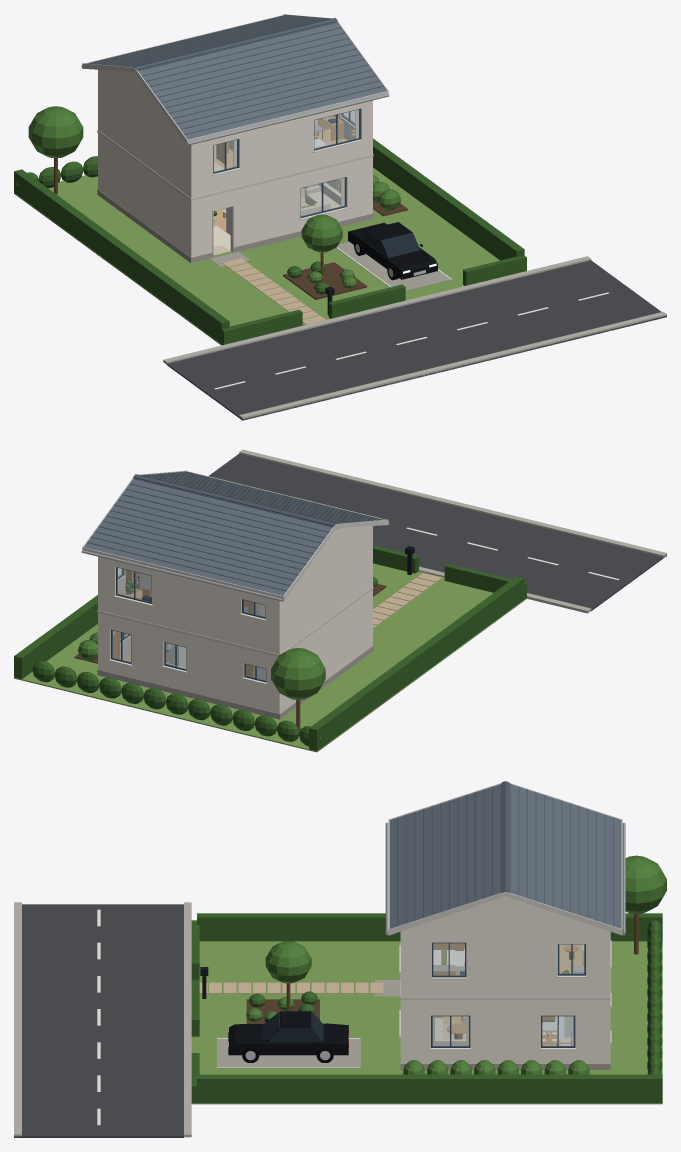
The model's file is hades-house_v3_0.glb.
The picture shows the model from 3 angles, top to bottom: view 1: azimuth 30°, elevation 25°; view 2: azimuth 150°, elevation 25°; view 3: azimuth 270°, elevation 25°; orthographic projection. The views are drawn at different scales.
Parts seen in each view (by area): view 1: road, ground, outer_wall_S, roof_S, boundary_hedge, outer_wall_W, roof_courses, front_yard, eaves, back_yard, black_car_01, roof_N (+10 smaller); view 2: road, outer_wall_N, roof_N, ground, boundary_hedge, outer_wall_W, roof_courses, back_yard, eaves, roof_S, plinth, front_yard (+6 smaller); view 3: road, outer_wall_E, ground, boundary_hedge, roof_N, roof_S, front_yard, roof_courses, black_car_01, back_yard, eaves, gable_E (+13 smaller).
Part boxes in pixels (box(x1,y1,x2,y2)): road: box(163, 256, 666, 420); ground: box(14, 167, 499, 345); outer_wall_S: box(189, 100, 372, 257); roof_S: box(138, 22, 386, 139); boundary_hedge: box(14, 138, 526, 344); outer_wall_W: box(100, 70, 188, 255); roof_courses: box(89, 15, 383, 134); front_yard: box(210, 214, 367, 324); eaves: box(81, 14, 389, 145); back_yard: box(16, 106, 97, 194); black_car_01: box(348, 222, 437, 280); roof_N: box(86, 15, 326, 71); road: box(208, 449, 666, 613); outer_wall_N: box(98, 556, 281, 713); roof_N: box(84, 479, 332, 595); ground: box(14, 563, 526, 752); boundary_hedge: box(14, 545, 526, 750); outer_wall_W: box(282, 526, 370, 711); roof_courses: box(87, 471, 381, 591); back_yard: box(32, 648, 325, 746); eaves: box(81, 470, 389, 601); roof_S: box(143, 471, 384, 528); plinth: box(97, 645, 373, 719); front_yard: box(373, 573, 441, 628); road: box(14, 902, 191, 1137); outer_wall_E: box(406, 925, 604, 1063); ground: box(191, 941, 662, 1104); boundary_hedge: box(191, 913, 662, 1102); roof_N: box(510, 784, 621, 928); roof_S: box(389, 784, 500, 928); front_yard: box(199, 941, 400, 1023); roof_courses: box(397, 783, 614, 926); black_car_01: box(228, 1011, 348, 1062); back_yard: box(625, 855, 666, 1074); eaves: box(385, 781, 625, 935); gable_E: box(419, 896, 591, 925).
Bounding box in the file's own units: 21 × 8.06 × 24.97.
